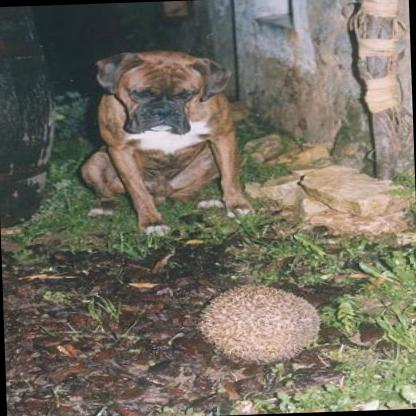boxer: (69, 45, 255, 241)
